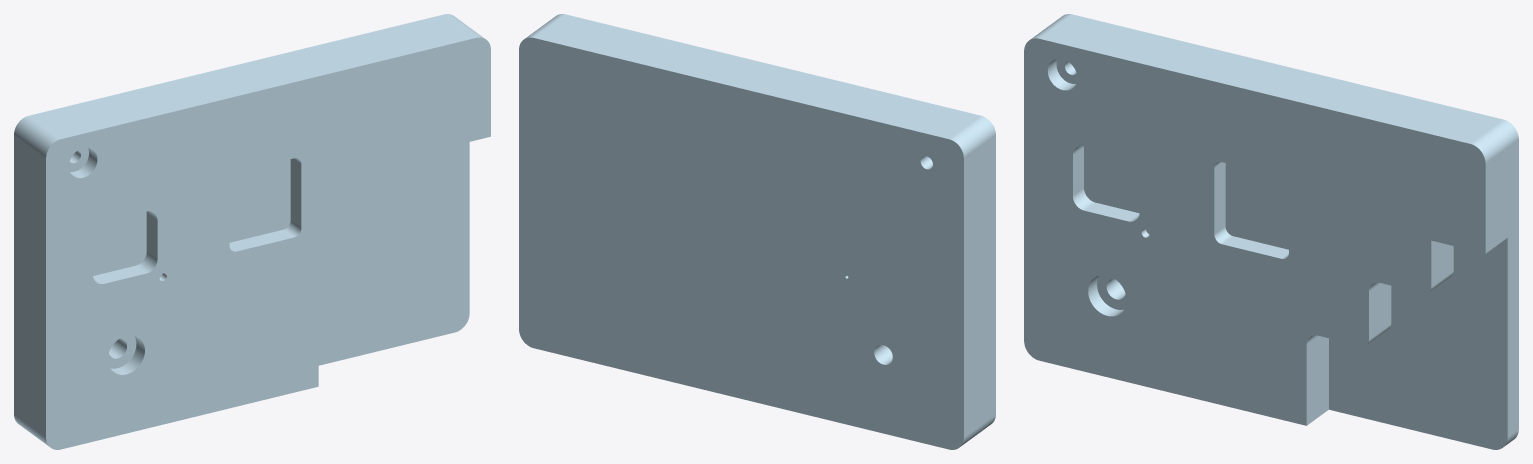
The model's file is plate.gltf.
The picture shows the model from 3 angles, left to right: view 1: azimuth 30°, elevation 25°; view 2: azimuth 150°, elevation 25°; view 3: azimuth 330°, elevation 25°; orthographic projection. The views are drawn at different scales.
Visible parts, largest first — view 1: mesh29_meshnode_29, mesh19_meshnode_19, mesh5_meshnode_5, mesh4_meshnode_4, mesh40_meshnode_40, mesh31_meshnode_31, mesh8_meshnode_8, mesh43_meshnode_43, mesh42_meshnode_42, mesh28_meshnode_28, mesh33_meshnode_33, mesh34_meshnode_34; view 2: mesh3_meshnode_3, mesh5_meshnode_5, mesh4_meshnode_4, mesh8_meshnode_8; view 3: mesh29_meshnode_29, mesh19_meshnode_19, mesh5_meshnode_5, mesh11_meshnode_11, mesh40_meshnode_40, mesh31_meshnode_31, mesh12_meshnode_12, mesh7_meshnode_7, mesh18_meshnode_18, mesh14_meshnode_14, mesh41_meshnode_41, mesh42_meshnode_42 (+3 smaller).
Part boxes in pixels (x1=…): mesh29_meshnode_29: x1=46, y1=37, x2=490, y2=449; mesh19_meshnode_19: x1=318, y1=142, x2=469, y2=365; mesh5_meshnode_5: x1=29, y1=14, x2=475, y2=138; mesh4_meshnode_4: x1=14, y1=135, x2=45, y2=437; mesh40_meshnode_40: x1=229, y1=159, x2=290, y2=242; mesh31_meshnode_31: x1=93, y1=211, x2=146, y2=275; mesh8_meshnode_8: x1=14, y1=115, x2=60, y2=157; mesh43_meshnode_43: x1=290, y1=158, x2=301, y2=227; mesh42_meshnode_42: x1=229, y1=230, x2=293, y2=251; mesh28_meshnode_28: x1=110, y1=335, x2=144, y2=374; mesh33_meshnode_33: x1=94, y1=265, x2=145, y2=283; mesh34_meshnode_34: x1=146, y1=213, x2=157, y2=258; mesh3_meshnode_3: x1=519, y1=37, x2=963, y2=449; mesh5_meshnode_5: x1=534, y1=14, x2=980, y2=138; mesh4_meshnode_4: x1=964, y1=135, x2=995, y2=437; mesh8_meshnode_8: x1=949, y1=115, x2=995, y2=157; mesh29_meshnode_29: x1=1024, y1=38, x2=1485, y2=425; mesh19_meshnode_19: x1=1329, y1=238, x2=1507, y2=449; mesh5_meshnode_5: x1=1040, y1=14, x2=1502, y2=143; mesh11_meshnode_11: x1=1485, y1=139, x2=1518, y2=436; mesh40_meshnode_40: x1=1225, y1=163, x2=1288, y2=249; mesh31_meshnode_31: x1=1084, y1=146, x2=1139, y2=213; mesh12_meshnode_12: x1=1306, y1=336, x2=1328, y2=425; mesh7_meshnode_7: x1=1470, y1=119, x2=1518, y2=163; mesh18_meshnode_18: x1=1369, y1=283, x2=1391, y2=339; mesh14_meshnode_14: x1=1431, y1=240, x2=1453, y2=286; mesh41_meshnode_41: x1=1214, y1=162, x2=1225, y2=233; mesh42_meshnode_42: x1=1222, y1=236, x2=1288, y2=258.
Bounding box in the file's own units: 0.1524 × 0.1016 × 0.0191.
